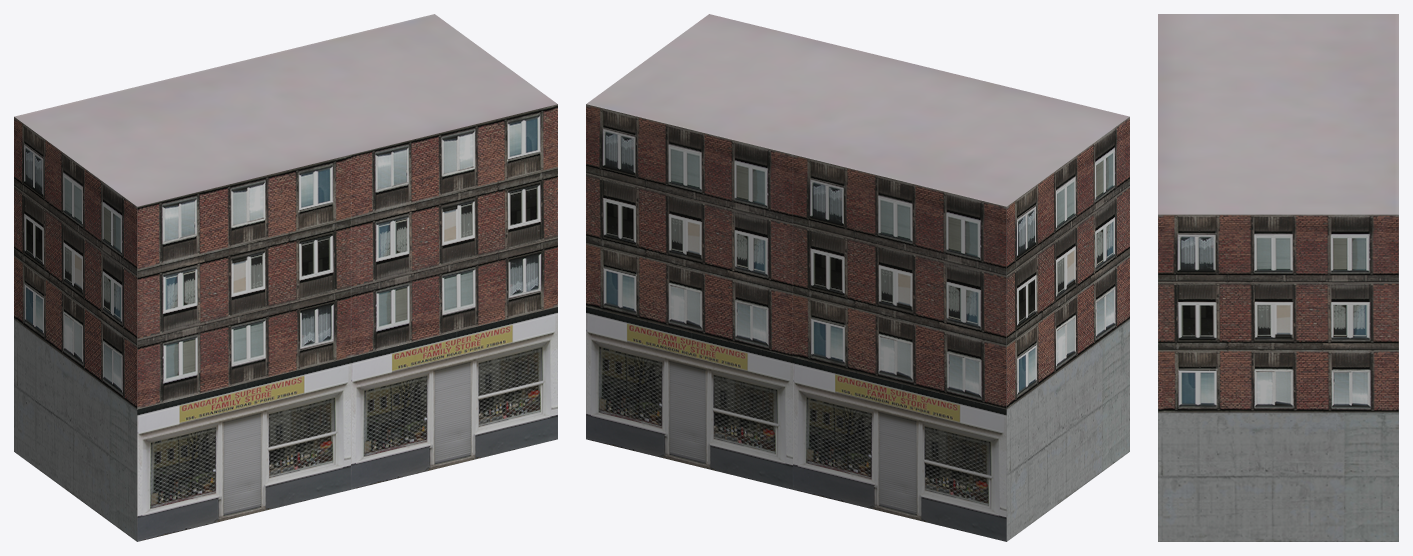
Rendered from C_Building03.fbx.
The picture shows the model from 3 angles, left to right: view 1: azimuth 30°, elevation 25°; view 2: azimuth 150°, elevation 25°; view 3: azimuth 270°, elevation 25°; orthographic projection. The views are drawn at different scales.
Parts seen in each view (by area): view 1: C_Building03; view 2: C_Building03; view 3: C_Building03.
Boxes of the visible parts, x1,y1,x2,y2 form: C_Building03: (14,14,557,541); C_Building03: (586,14,1129,541); C_Building03: (1158,14,1398,541).
Size of the model in its own units: 3450 by 2627 by 1750.
